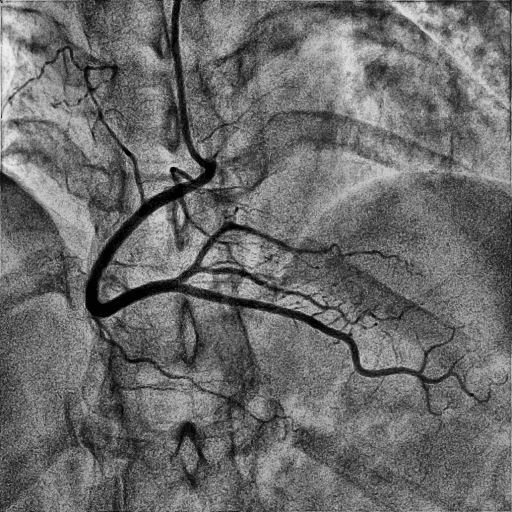pborca: (176, 221, 396, 283)
pda: (179, 284, 475, 397)
rca: (85, 169, 218, 317)
